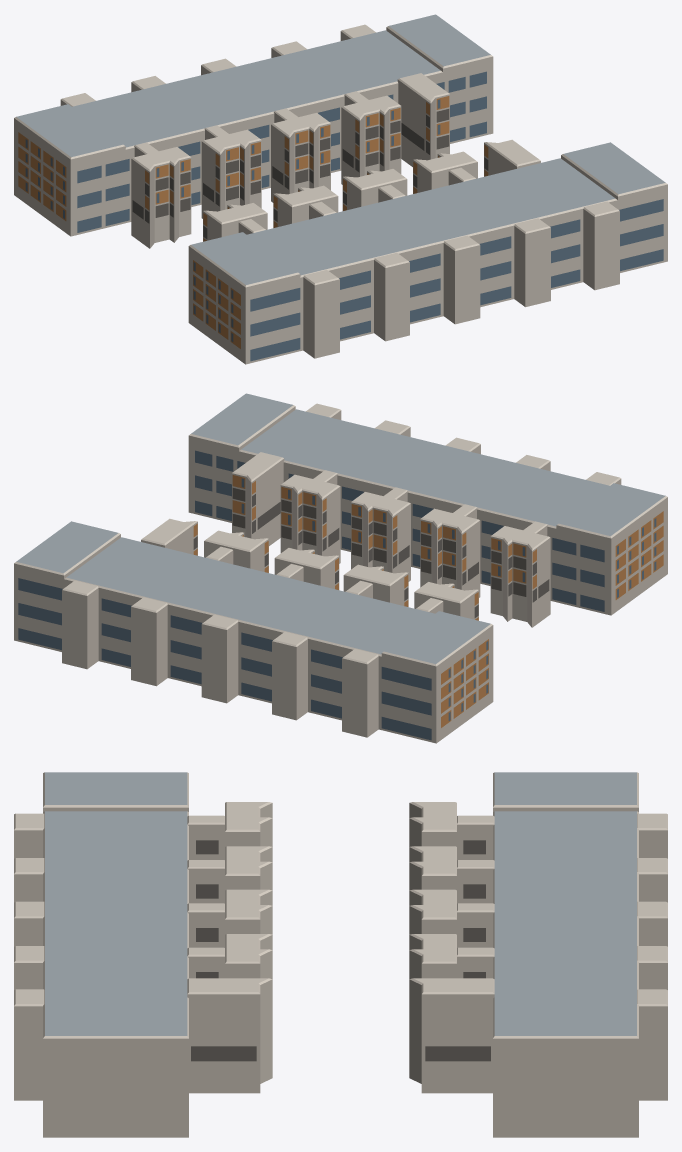
The model's file is sd-salk-institute.glb.
3 views of the same model, one above another, from view 1: azimuth 30°, elevation 25°; view 2: azimuth 150°, elevation 25°; view 3: azimuth 270°, elevation 25° (orthographic). The views are drawn at different scales.
Visible parts, largest first — view 1: Salk Institute; view 2: Salk Institute; view 3: Salk Institute.
Part boxes in pixels (x1=…): Salk Institute: x1=14, y1=14, x2=667, y2=364; Salk Institute: x1=14, y1=393, x2=667, y2=743; Salk Institute: x1=14, y1=772, x2=667, y2=1137.
Size of the model in its own units: 110 by 19.6 by 115.
